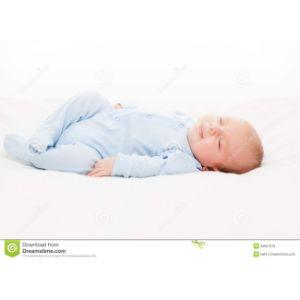sleep: (7, 95, 264, 177), (190, 114, 243, 164)
